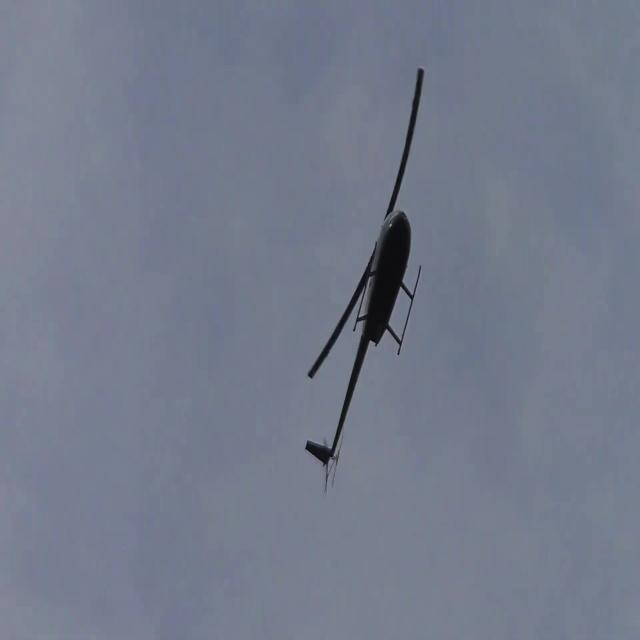CIV_HELO: (305, 206, 422, 469)
